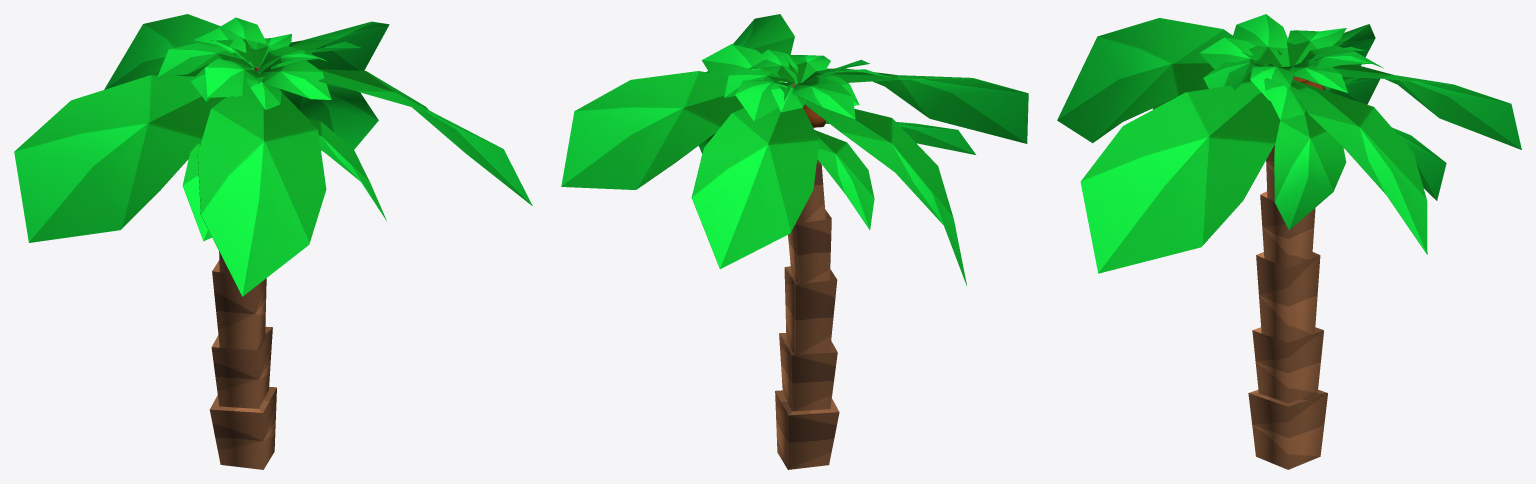
The model's file is Palm Tree_Sem2_V4.FBX.
3 views of the same model, side by side, from view 1: azimuth 30°, elevation 25°; view 2: azimuth 150°, elevation 25°; view 3: azimuth 270°, elevation 25° (orthographic). The views are drawn at different scales.
Parts seen in each view (by area): view 1: Plane028, Cylinder001; view 2: Plane028, Cylinder001; view 3: Plane028, Cylinder001.
Boxes of the visible parts, x1,y1,x2,y2 form: Plane028: (14, 14, 532, 296); Cylinder001: (209, 66, 276, 469); Plane028: (561, 14, 1028, 285); Cylinder001: (775, 83, 839, 469); Plane028: (1057, 14, 1521, 273); Cylinder001: (1248, 76, 1327, 469).
Bounding box in the file's own units: 957 × 975 × 987.
3 materials, 2 textured.
